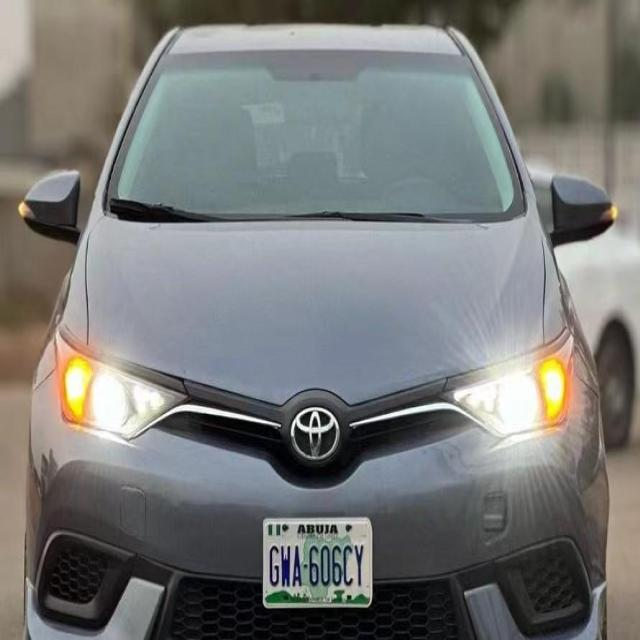Nigerian License Plate - vdataset benjamin-daria: (260, 512, 375, 613)
